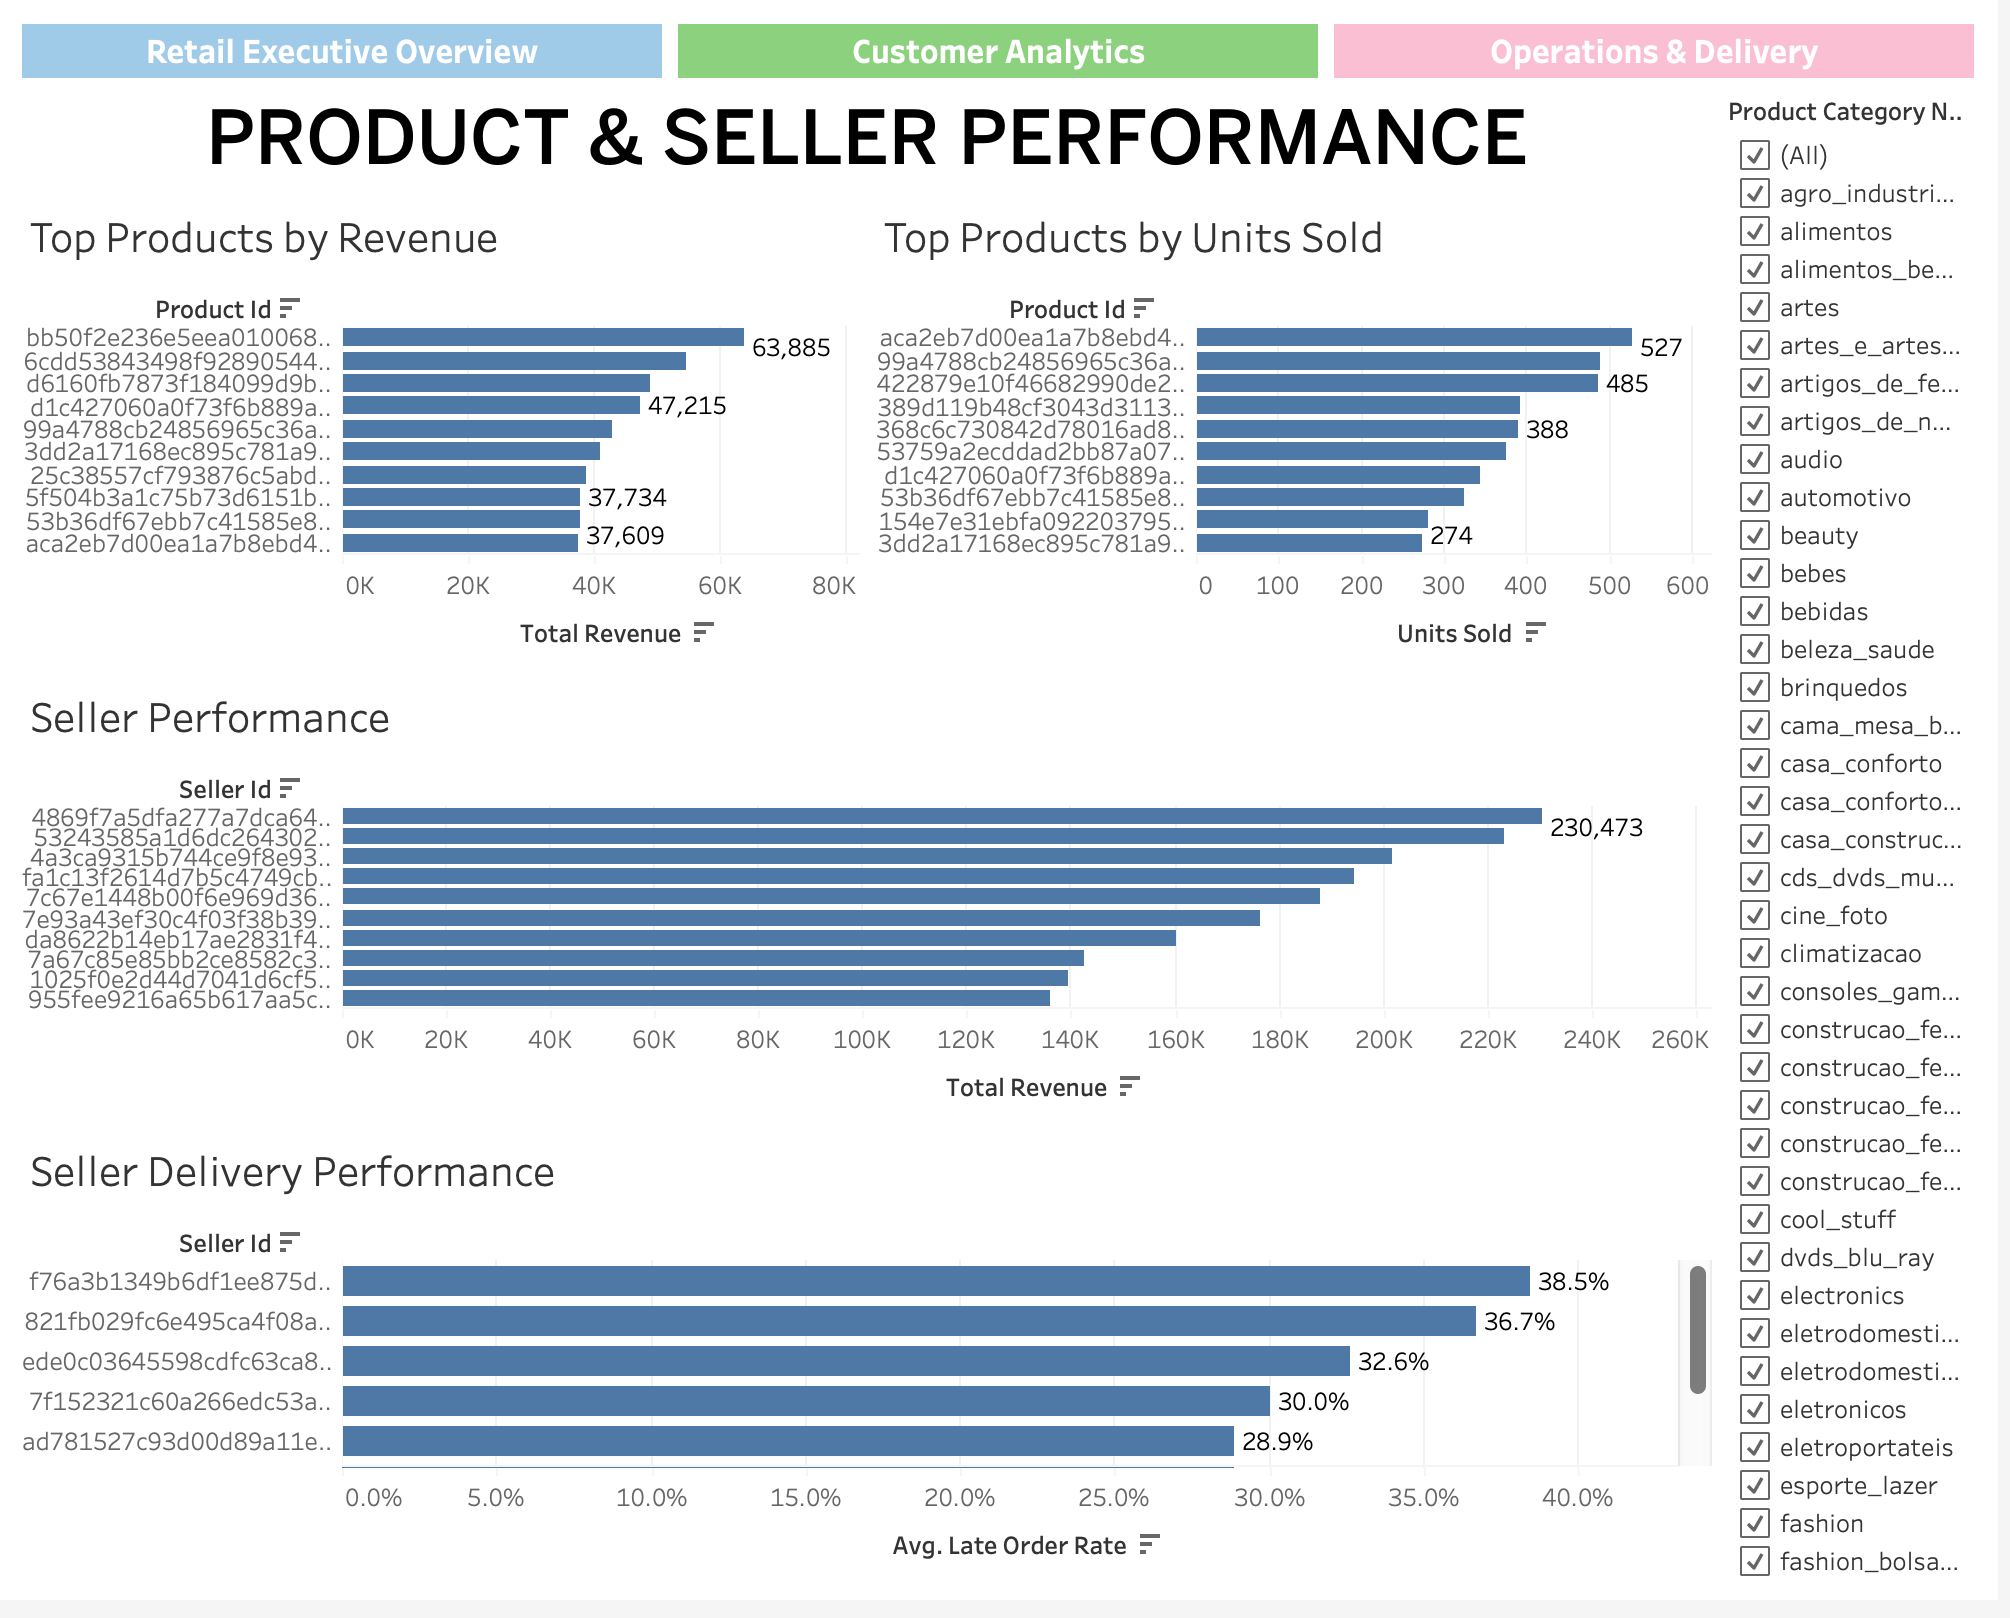

The dashboard page shown, as its layout file describes it:
{"tool":"tableau","page":{"name":"Product & Seller Performance","canvas":[1000,800],"ordinal":2},"visuals":[{"type":"dashboard-object","box":[8,8,328,35]},{"type":"dashboard-object","box":[336,8,328,35]},{"type":"dashboard-object","box":[664,8,328,35]},{"type":"text","box":[8,43,853,53]},{"type":"filter","title":"Top Products by Revenue","param":"[federated.0npy9yx1kzk7641a6ajdt05669cu].[none:product_category_name:nk]","box":[861,43,131,749]},{"type":"worksheet","title":"Top Products by Revenue","mark":"Bar","rows":["product_id"],"cols":["total_revenue"],"box":[8,96,426.5,240]},{"type":"worksheet","title":"Top Products by Units Sold","mark":"Automatic","rows":["product_id"],"cols":["units_sold"],"box":[434.5,96,426.5,240]},{"type":"worksheet","title":"Seller Performance","mark":"Bar","rows":["seller_id"],"cols":["total_revenue"],"box":[8,336,853,227]},{"type":"worksheet","title":"Seller Delivery Performance","mark":"Bar","rows":["seller_id"],"cols":["late_order_rate"],"box":[8,563,853,229]}]}

Visuals, with their boxes in screenshot pixels (x1, y1, x2, y2), scaled from the page's 1000x800 canvas onto the 2010x1618 screenshot:
dashboard-object: (16,16,675,87)
dashboard-object: (675,16,1335,87)
dashboard-object: (1335,16,1994,87)
text: (16,87,1731,194)
"Top Products by Revenue" filter: (1731,87,1994,1602)
"Top Products by Revenue" worksheet (Bar marks): (16,194,873,680)
"Top Products by Units Sold" worksheet: (873,194,1731,680)
"Seller Performance" worksheet (Bar marks): (16,680,1731,1139)
"Seller Delivery Performance" worksheet (Bar marks): (16,1139,1731,1602)
